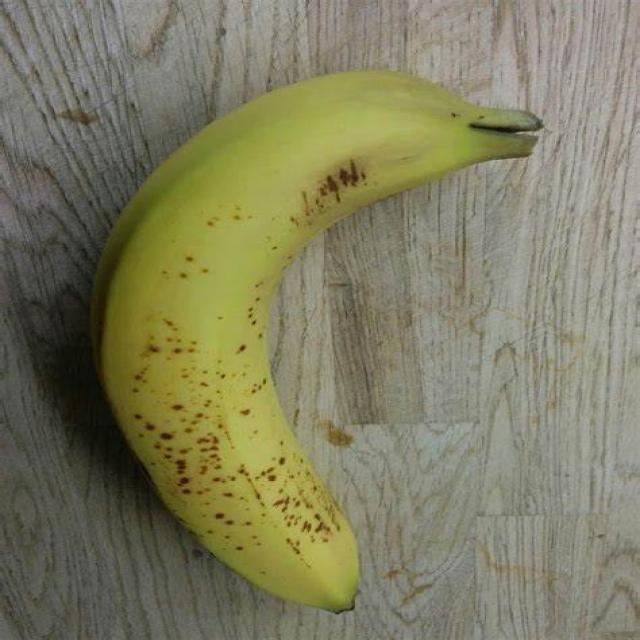Banana: (95, 68, 532, 616)
